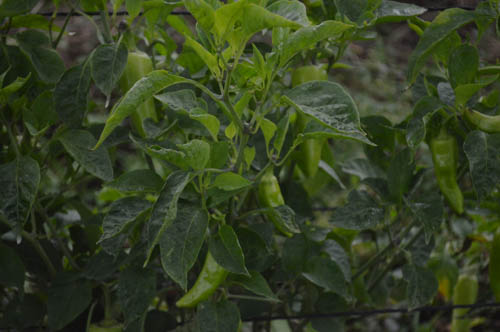ChiliPepper: (290, 67, 323, 175), (173, 249, 228, 309), (122, 48, 159, 135), (430, 137, 459, 212), (260, 181, 292, 229)
